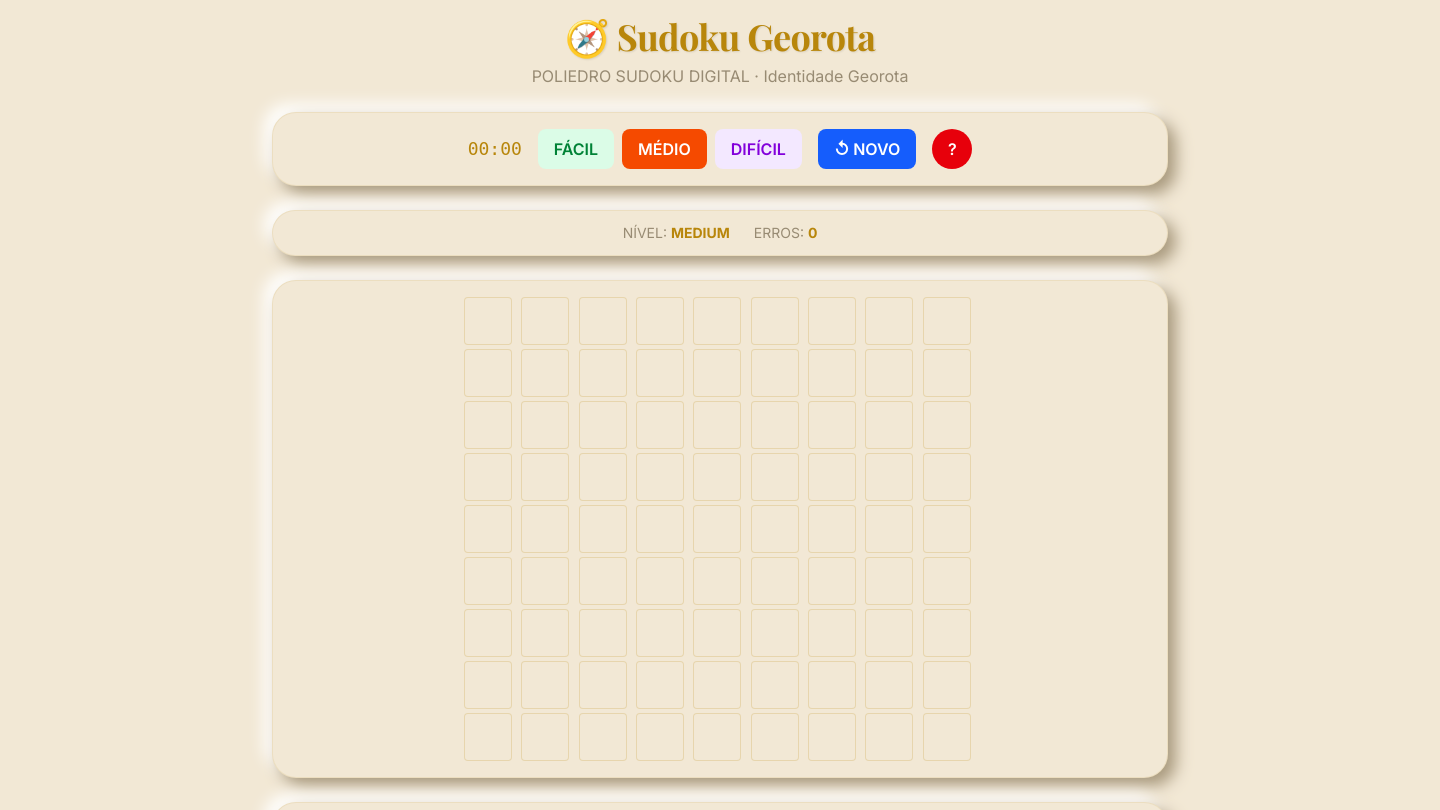
SudokuGame Component › shows help modal
Click the button "?".
click(952, 149)  # box [932,129,972,169]
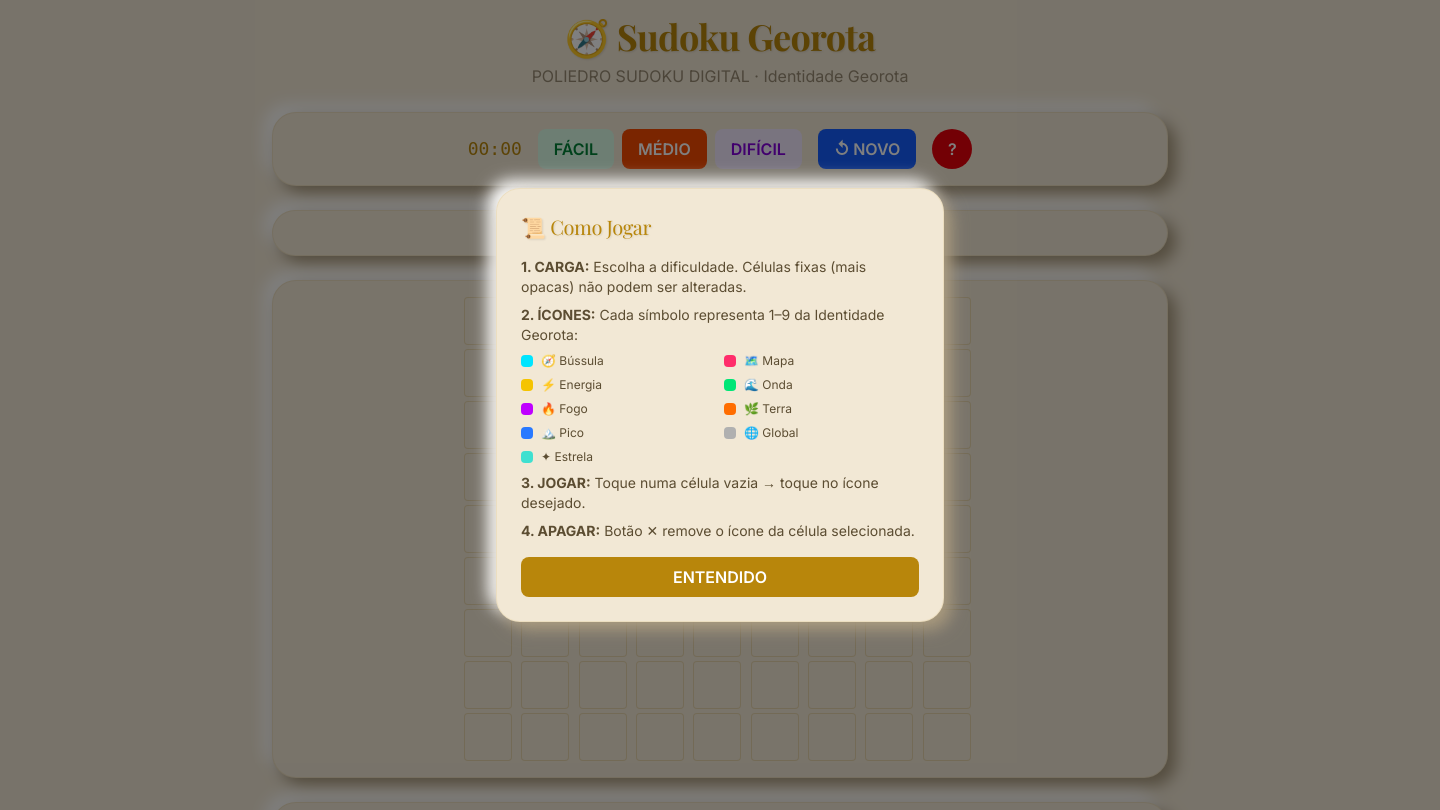
Now the heading "📜 Como Jogar" is shown, box [521,213,651,240]
Now the button "ENTENDIDO" is shown, box [521,557,919,597]
